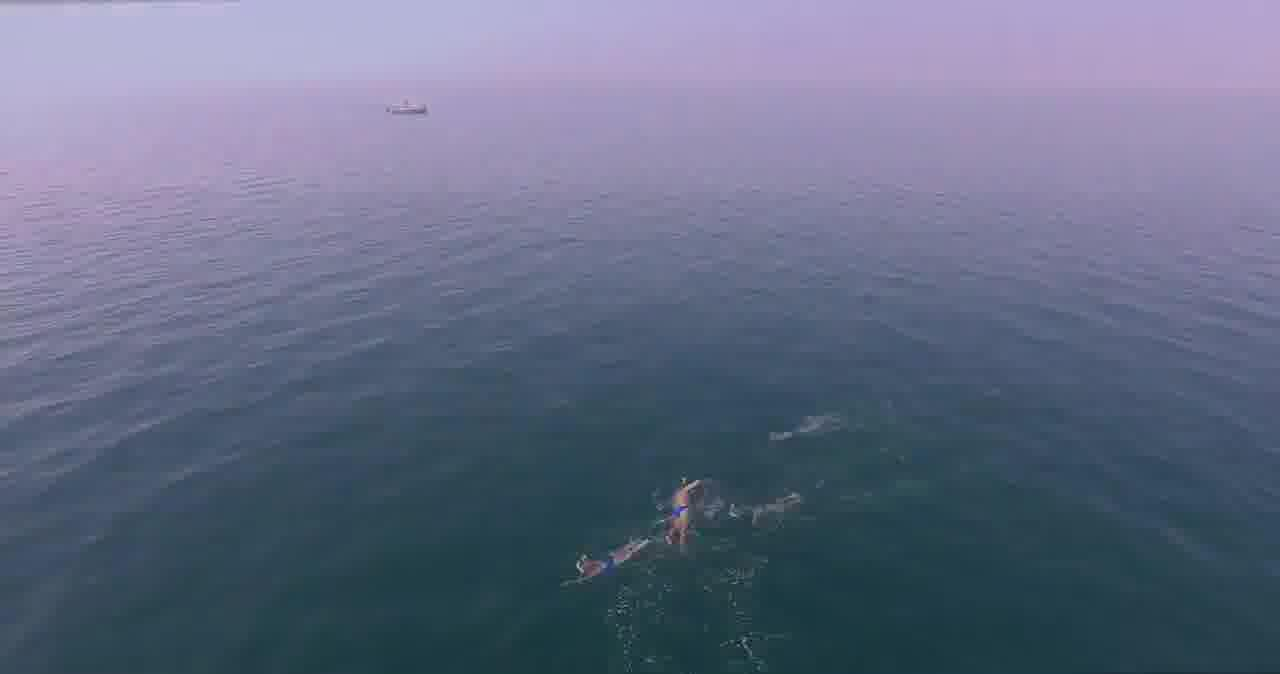human: (666, 466, 702, 532), (564, 544, 605, 582)
